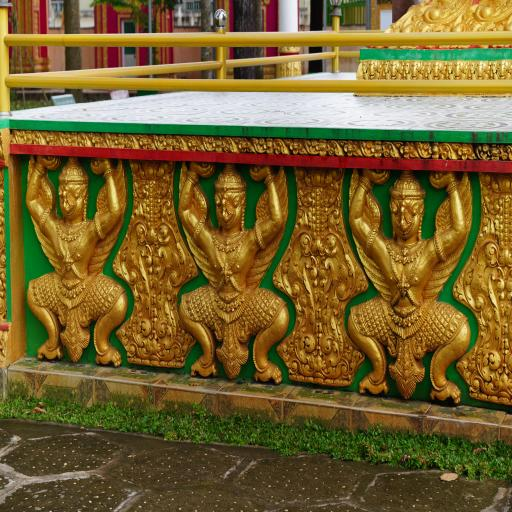than: (343, 154, 473, 410), (174, 153, 292, 387), (17, 142, 134, 374)
